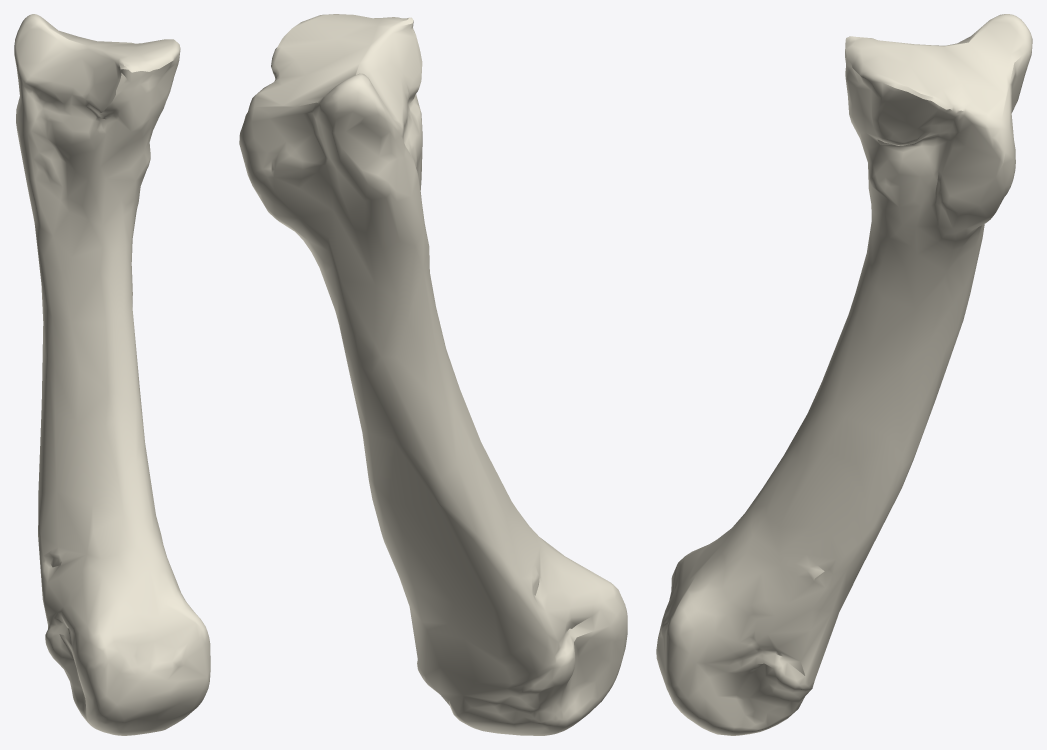
File: fma24468.glb
3 renders of one model, left to right at view 1: azimuth 30°, elevation 25°; view 2: azimuth 150°, elevation 25°; view 3: azimuth 270°, elevation 25°, orthographic. The views are drawn at different scales.
Visible parts, largest first — view 1: FMA24468; view 2: FMA24468; view 3: FMA24468.
Part boxes in pixels (left/top/right/bottom): FMA24468: left=14, top=14, right=210, bottom=735; FMA24468: left=239, top=14, right=627, bottom=735; FMA24468: left=656, top=14, right=1032, bottom=735.
Size of the model in its own units: 0.0203 by 0.0647 by 0.0307.
